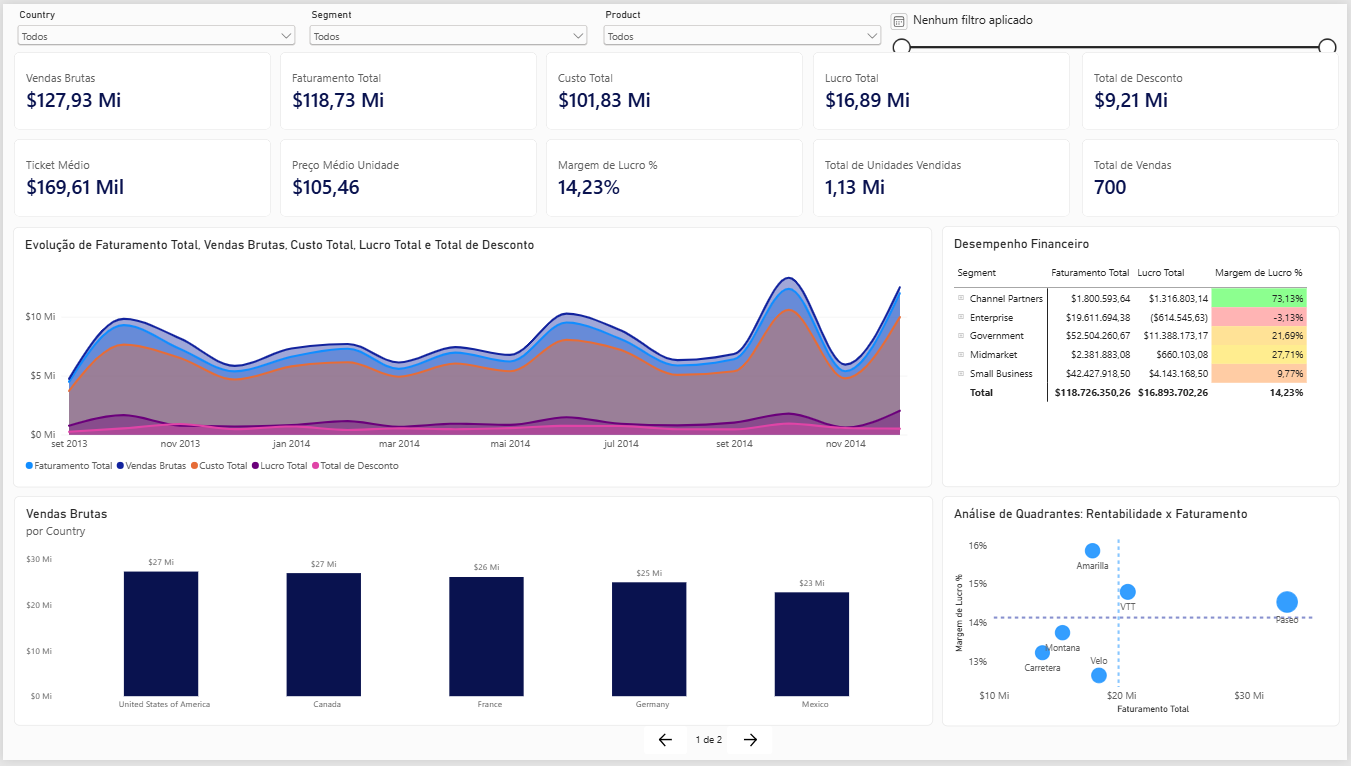

The page's visual inventory and layout, read from the dashboard file:
{"tool":"powerbi","page":{"name":"Página 1","canvas":[1920,1080],"ordinal":0},"visuals":[{"type":"slicer","fields":{"Values":["dim_country.Country"]},"box":[15,6.7,406.7,76.7],"z":0},{"type":"slicer","fields":{"Values":["dim_segment.Segment"]},"box":[433.3,6.7,406.7,76.7],"z":1000},{"type":"slicer","fields":{"Values":["dim_calendar.Date"]},"box":[1260.4,6.7,647.7,61.9],"z":2000},{"type":"slicer","fields":{"Values":["dim_product.Product"]},"box":[853.3,6.7,406.7,76.7],"z":3000},{"type":"actionButton","box":[916.2,1031.2,61.7,40],"z":4000},{"type":"actionButton","box":[1033.8,1031.2,65,40],"z":5000},{"type":"textbox","box":[960,1040,96.2,40],"z":6000},{"type":"cardVisual","fields":{"Data":["_Medidas.Vendas Brutas"]},"box":[15.7,68.6,367.1,111.4],"z":7000},{"type":"cardVisual","fields":{"Data":["_Medidas.Faturamento Total"]},"box":[395.7,68.6,367.1,111.4],"z":8000},{"type":"cardVisual","fields":{"Data":["_Medidas.Custo Total"]},"box":[775.7,68.6,367.1,111.4],"z":9000},{"type":"cardVisual","fields":{"Data":["_Medidas.Lucro Total"]},"box":[1157.1,68.6,367.1,111.4],"z":10000},{"type":"cardVisual","fields":{"Data":["_Medidas.Ticket Médio"]},"box":[15.7,192.9,367.1,111.4],"z":11000},{"type":"cardVisual","fields":{"Data":["_Medidas.Total de Desconto"]},"box":[1541.4,68.6,367.1,111.4],"z":12000},{"type":"cardVisual","fields":{"Data":["_Medidas.Preço Médio Unidade"]},"box":[395.7,192.9,367.1,111.4],"z":13000},{"type":"cardVisual","fields":{"Data":["_Medidas.Margem de Lucro %"]},"box":[775.7,192.9,367.1,111.4],"z":14000},{"type":"cardVisual","fields":{"Data":["_Medidas.Total de Unidades Vendidas"]},"box":[1157.1,192.9,367.1,111.4],"z":15000},{"type":"cardVisual","fields":{"Data":["_Medidas.Total de Vendas"]},"box":[1541.4,192.9,367.1,111.4],"z":16000},{"type":"pivotTable","title":"Desempenho Financeiro","fields":{"Rows":["dim_segment.Segment","dim_product.Product"],"Values":["_Medidas.Faturamento Total","_Medidas.Lucro Total","_Medidas.Margem de Lucro %"]},"box":[1341.2,317.8,568.3,373],"z":17000},{"type":"areaChart","title":"Evolução de Faturamento Total, Vendas Brutas, Custo Total, Lucro Total e Total de Desconto","fields":{"Category":["dim_calendar.Date.Variação.Hierarquia de datas.Ano","dim_calendar.Date.Variação.Hierarquia de datas.Trimestre","dim_calendar.Date.Variação.Hierarquia de datas.Mês","dim_calendar.Date.Variação.Hierarquia de datas.Dia"],"Y":["_Medidas.Faturamento Total","_Medidas.Vendas Brutas","_Medidas.Custo Total","_Medidas.Lucro Total","_Medidas.Total de Desconto"]},"box":[14.8,319.2,1313,371.7],"z":18000},{"type":"scatterChart","title":"Análise de Quadrantes: Rentabilidade x Faturamento","fields":{"Category":["dim_product.Product"],"Size":["_Medidas.Total de Unidades Vendidas"],"X":["_Medidas.Faturamento Total"],"Y":["_Medidas.Margem de Lucro %"]},"box":[1341.2,702.9,568.3,328.6],"z":19000},{"type":"clusteredColumnChart","fields":{"Category":["dim_country.Country"],"Y":["_Medidas.Vendas Brutas"]},"box":[15,703,1313,328],"z":20000}]}

Visuals, with their boxes in screenshot pixels (x1, y1, x2, y2), scaled from the page's 1920x1080 canvas onto the 1351x766 screenshot:
slicer - dim_country.Country: (left=11, top=5, right=297, bottom=59)
slicer - dim_segment.Segment: (left=305, top=5, right=591, bottom=59)
slicer - dim_calendar.Date: (left=887, top=5, right=1343, bottom=49)
slicer - dim_product.Product: (left=600, top=5, right=887, bottom=59)
actionButton: (left=645, top=731, right=688, bottom=760)
actionButton: (left=727, top=731, right=773, bottom=760)
textbox: (left=676, top=738, right=743, bottom=765)
cardVisual - _Medidas.Vendas Brutas: (left=11, top=49, right=269, bottom=128)
cardVisual - _Medidas.Faturamento Total: (left=278, top=49, right=537, bottom=128)
cardVisual - _Medidas.Custo Total: (left=546, top=49, right=804, bottom=128)
cardVisual - _Medidas.Lucro Total: (left=814, top=49, right=1072, bottom=128)
cardVisual - _Medidas.Ticket Médio: (left=11, top=137, right=269, bottom=216)
cardVisual - _Medidas.Total de Desconto: (left=1085, top=49, right=1343, bottom=128)
cardVisual - _Medidas.Preço Médio Unidade: (left=278, top=137, right=537, bottom=216)
cardVisual - _Medidas.Margem de Lucro %: (left=546, top=137, right=804, bottom=216)
cardVisual - _Medidas.Total de Unidades Vendidas: (left=814, top=137, right=1072, bottom=216)
cardVisual - _Medidas.Total de Vendas: (left=1085, top=137, right=1343, bottom=216)
"Desempenho Financeiro" pivotTable: (left=944, top=225, right=1344, bottom=490)
"Evolução de Faturamento Total, Vendas Brutas, Custo Total, Lucro Total e Total de Desconto" areaChart: (left=10, top=226, right=934, bottom=490)
"Análise de Quadrantes: Rentabilidade x Faturamento" scatterChart: (left=944, top=499, right=1344, bottom=732)
clusteredColumnChart - dim_country.Country x _Medidas.Vendas Brutas: (left=11, top=499, right=934, bottom=731)
